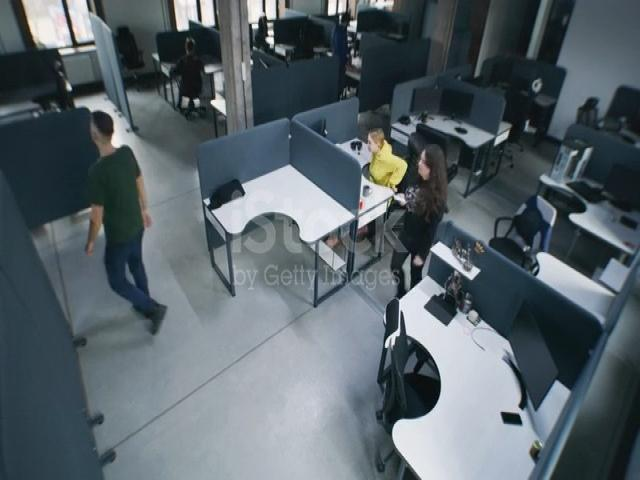EMPTY_CHAIR: (363, 272, 439, 480), (495, 172, 552, 287), (27, 58, 101, 119), (501, 60, 542, 156), (106, 0, 149, 79), (401, 115, 464, 167), (566, 82, 613, 134)
PERSON_IN_CHAIR: (336, 118, 406, 255), (176, 22, 209, 113), (323, 42, 366, 106), (552, 84, 556, 86)
